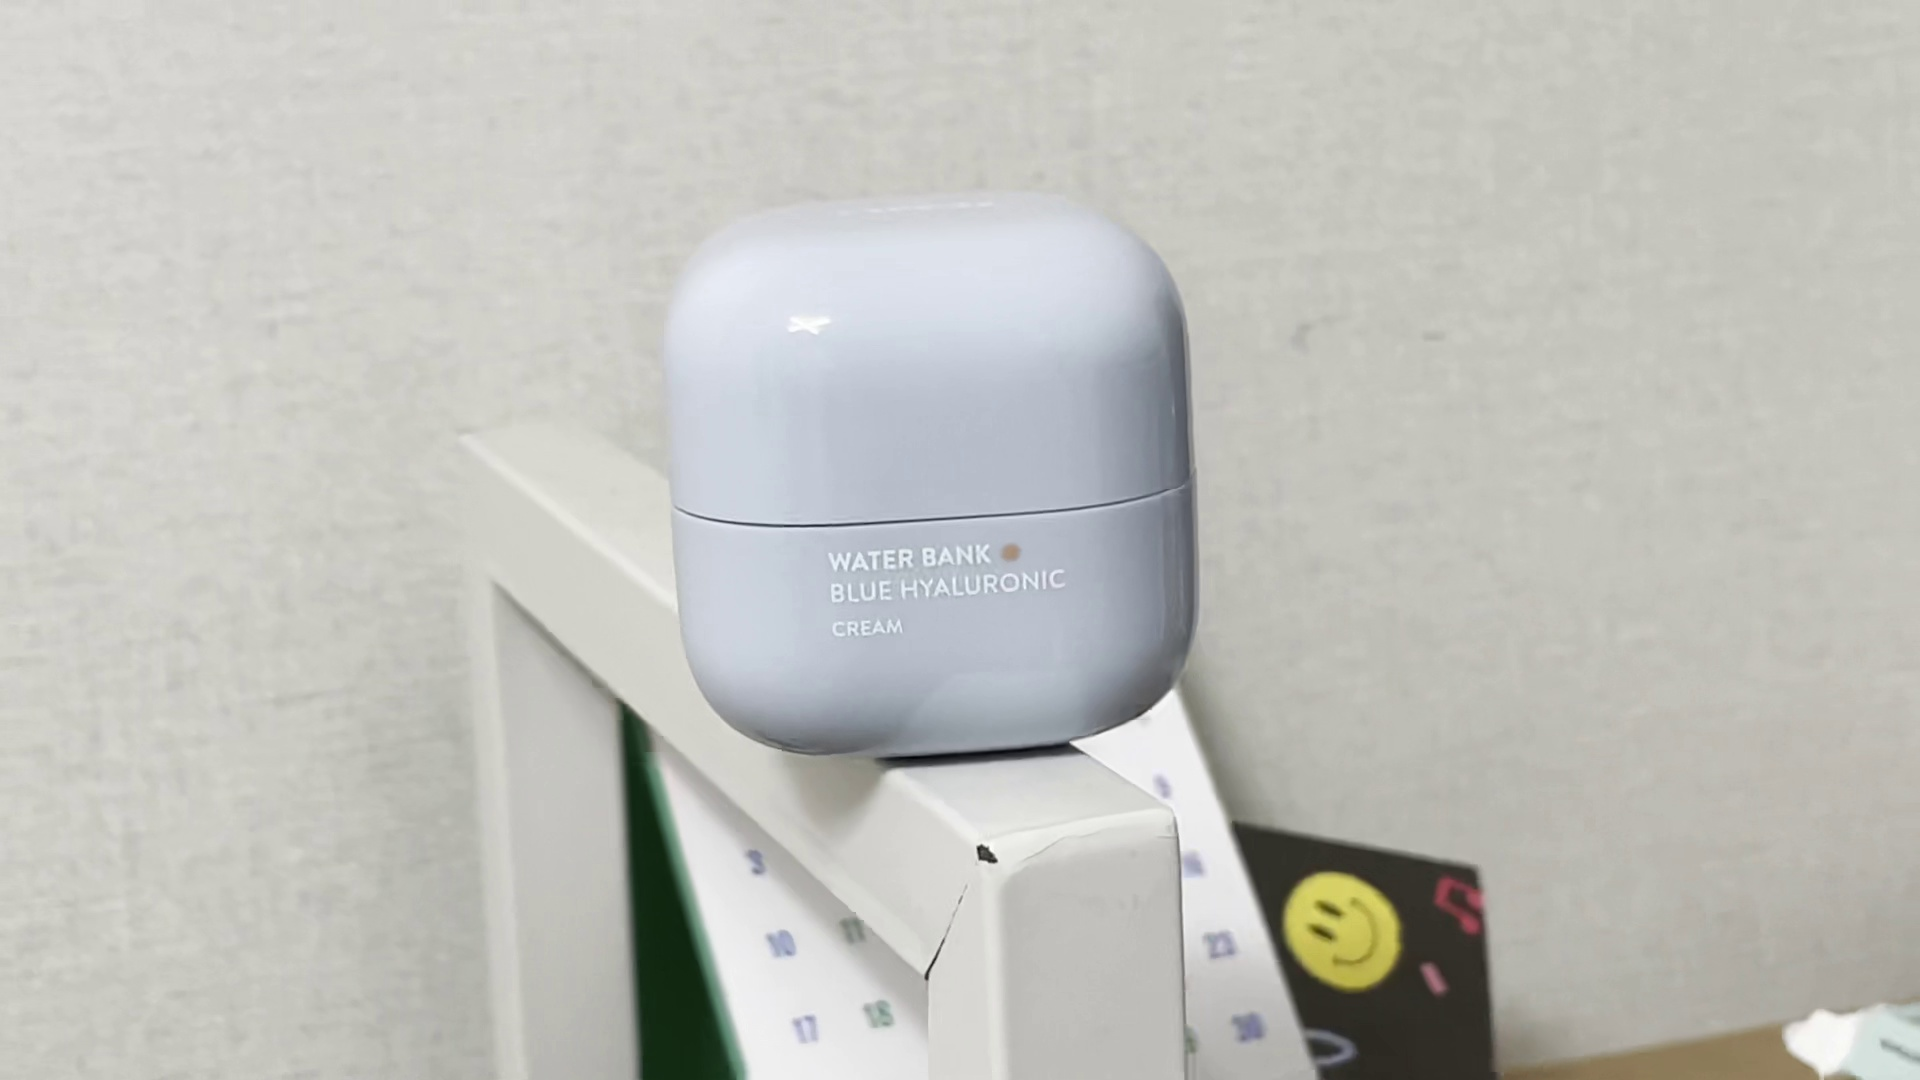cream: (659, 190, 1203, 770)
